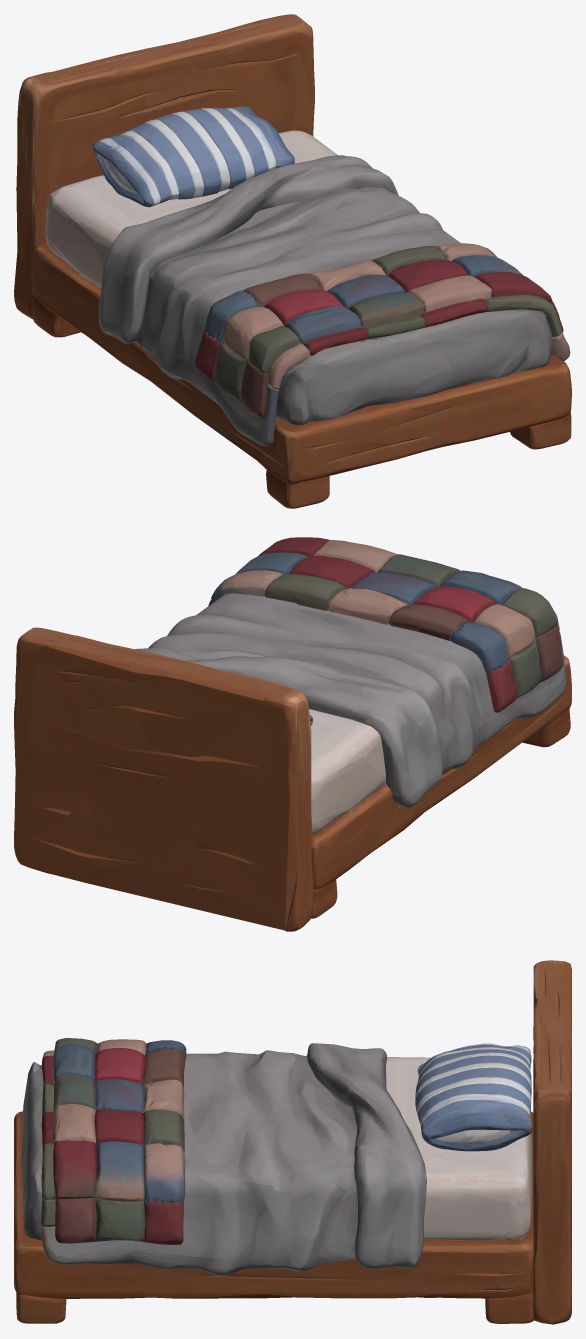
Rendered from bed.glb.
3 renders of one model, top to bottom at view 1: azimuth 30°, elevation 25°; view 2: azimuth 150°, elevation 25°; view 3: azimuth 270°, elevation 25°, orthographic.
Size of the model in its own units: 1.25 by 0.8703 by 1.9.
Materials: 1 (1 with a texture image).
